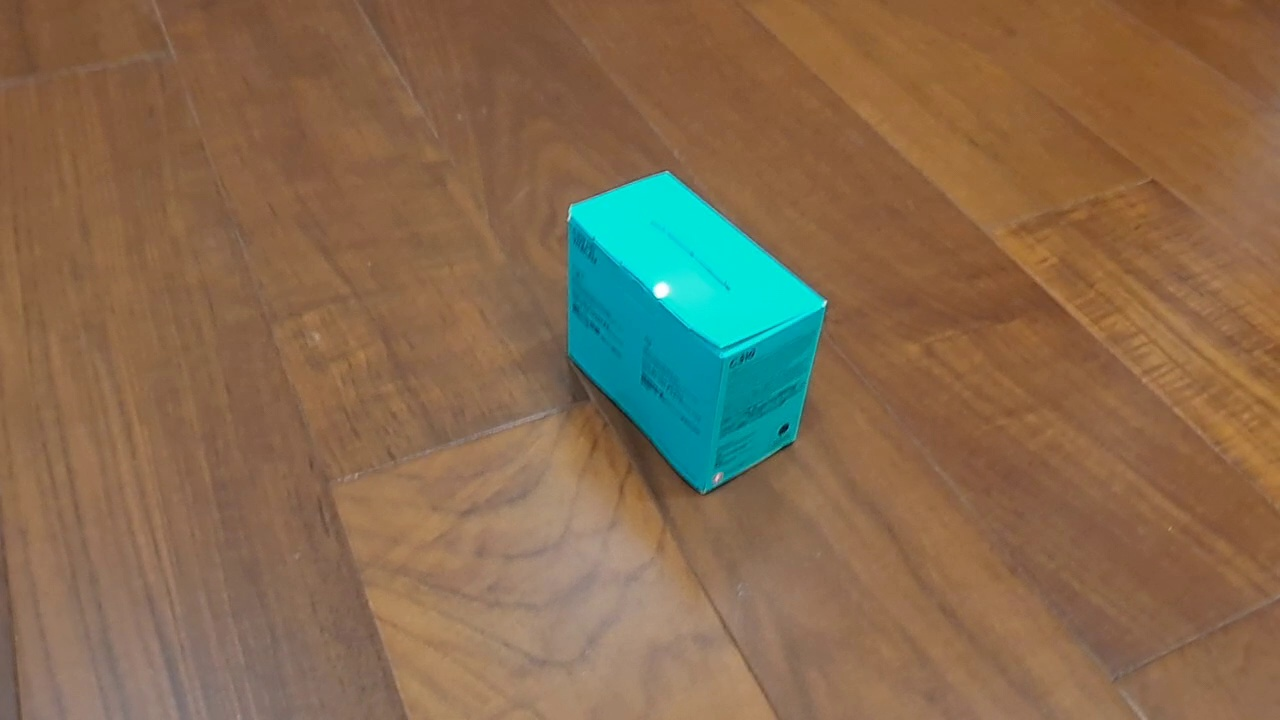webcam: (564, 170, 830, 497)
